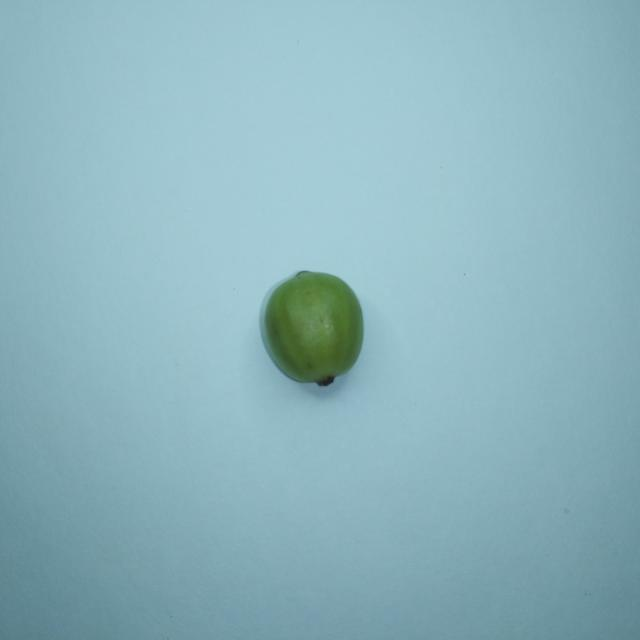Sano: (263, 272, 363, 386)
